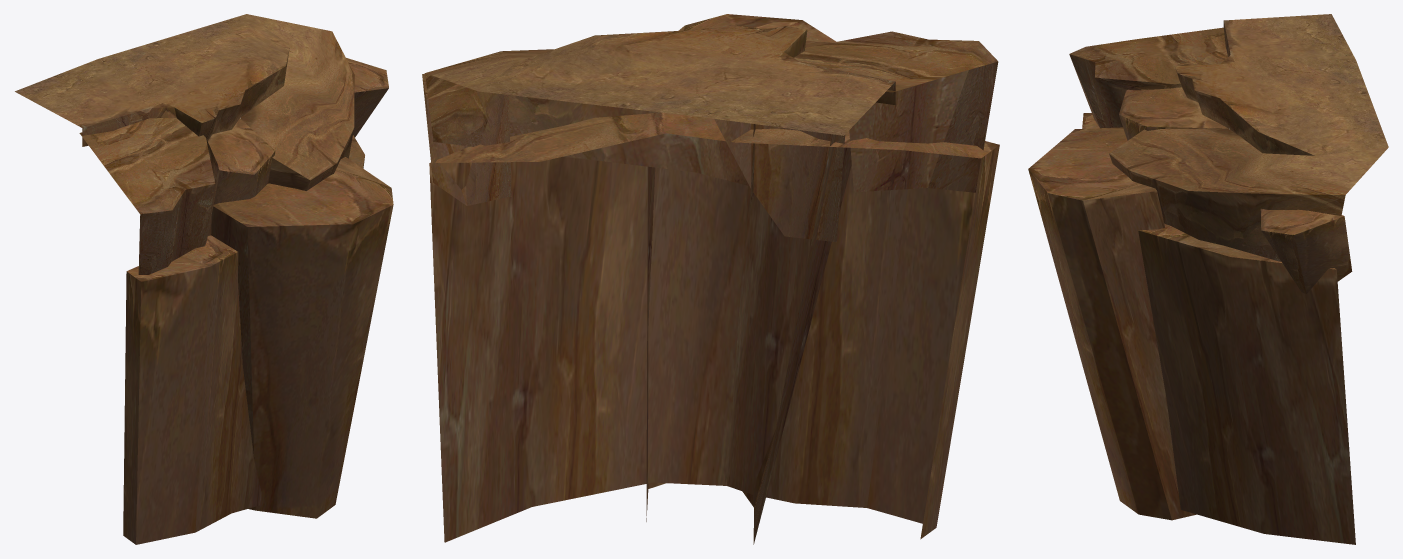
The model's file is yw_yanmenguan_fengbian02.FBX.
The picture shows the model from 3 angles, left to right: view 1: azimuth 30°, elevation 25°; view 2: azimuth 150°, elevation 25°; view 3: azimuth 270°, elevation 25°; orthographic projection. The views are drawn at different scales.
Parts seen in each view (by area): view 1: yw_yanmenguan_fengbian02; view 2: yw_yanmenguan_fengbian02; view 3: yw_yanmenguan_fengbian02.
Boxes of the visible parts, x1,y1,x2,y2 form: yw_yanmenguan_fengbian02: [15, 14, 393, 544]; yw_yanmenguan_fengbian02: [422, 14, 999, 544]; yw_yanmenguan_fengbian02: [1028, 14, 1388, 544].
Size of the model in its own units: 716 by 768 by 640.
